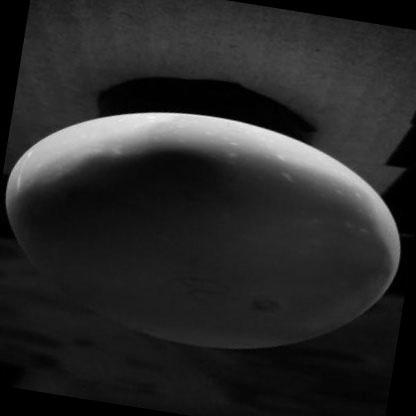telur: (4, 105, 406, 352)
